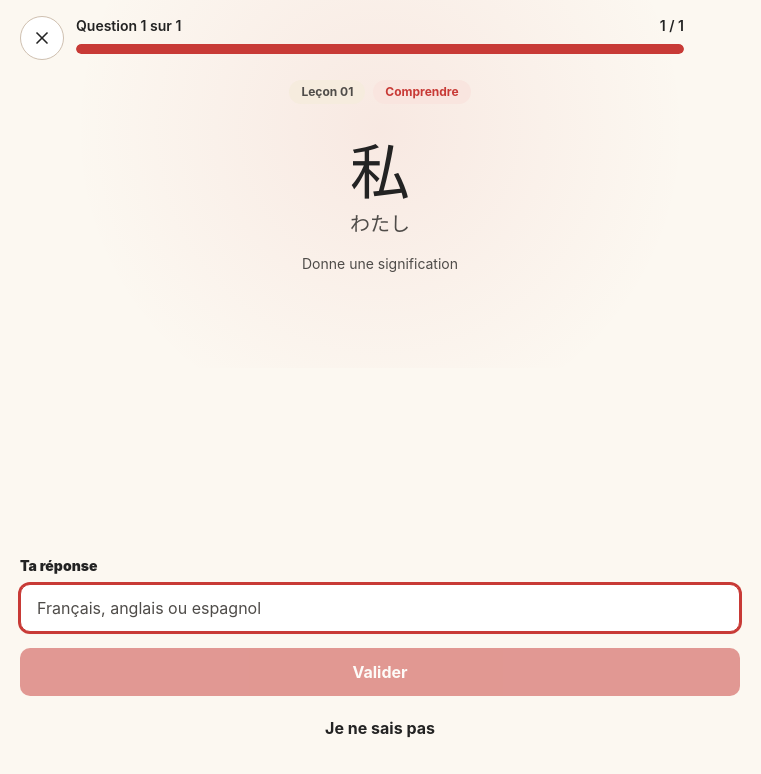
Test: QuizPage › persists a skipped answer as a distinct incorrect outcome
This screenshot has width=761, height=774.
Click the button "Je ne sais pas": {"x": 380, "y": 728} x1=20 y1=704 x2=740 y2=752
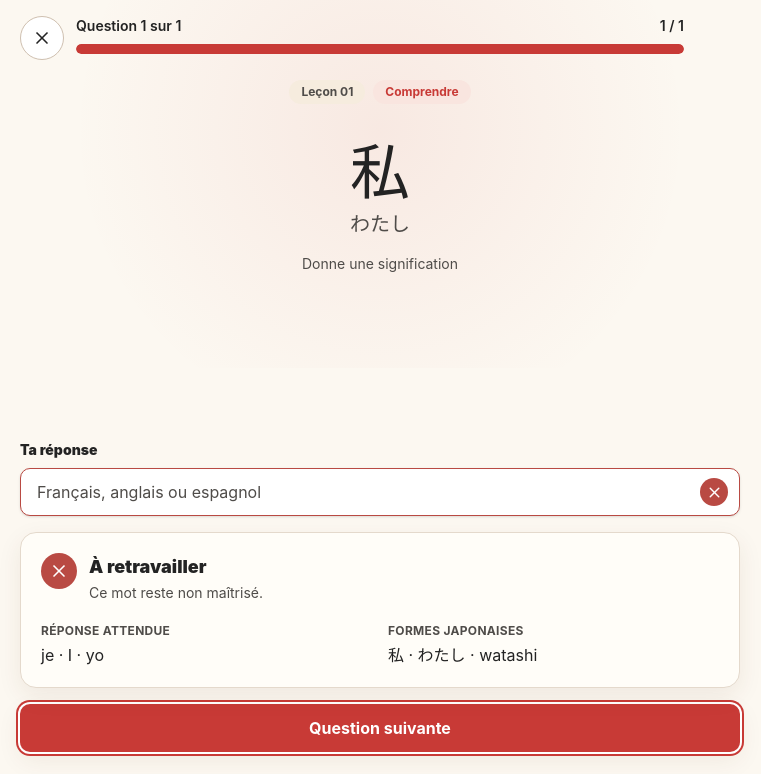
Expected: the message shows "À retravailler", x1=89 y1=556 x2=206 y2=577
